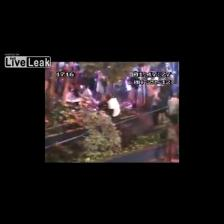person: (165, 116, 179, 161), (105, 94, 120, 122), (159, 87, 170, 124), (152, 86, 160, 125)
